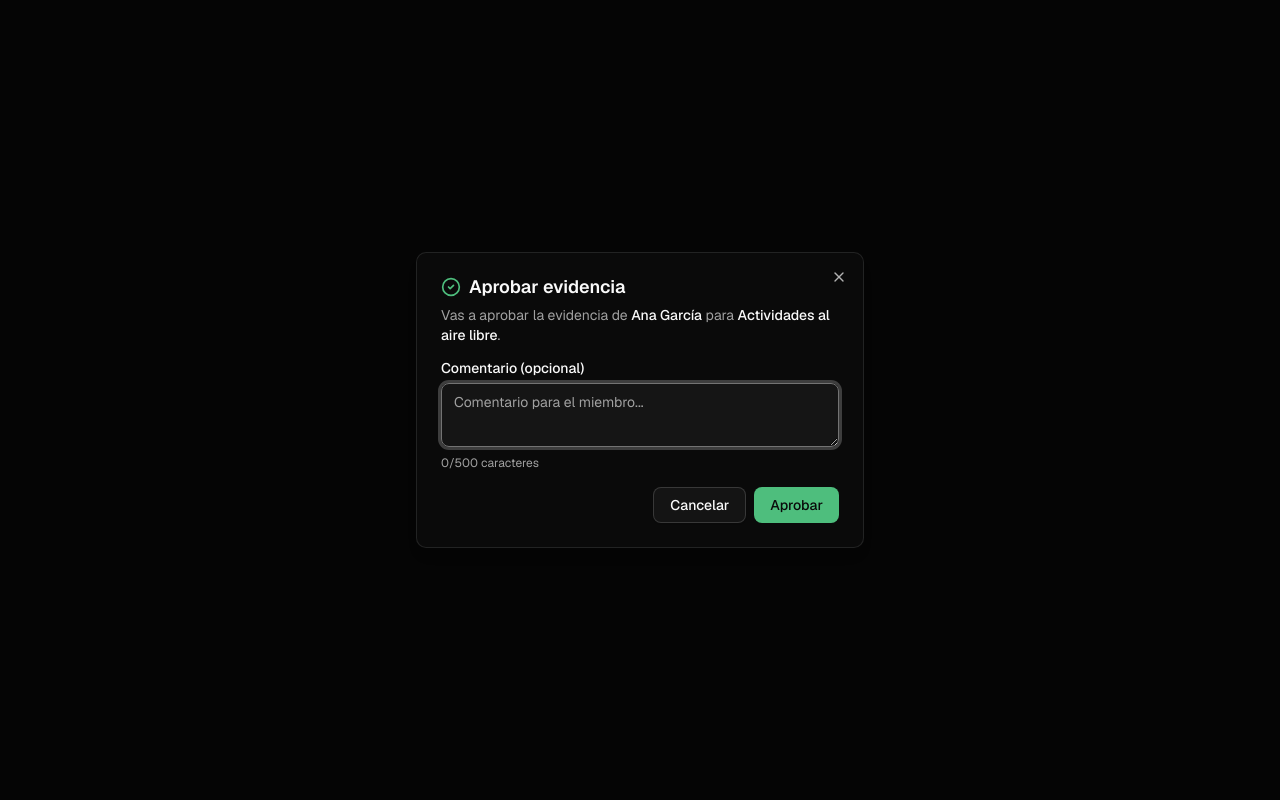
Test: EvidenceApproveDialog › updates char counter as user types in comments textarea
expect the text "0/500 caracteres" is shown: met, box [441,455,539,471]
Type "hola" into the text box with id "approve-comments".
click(640, 415); type("hola")  # box [441,383,839,447]
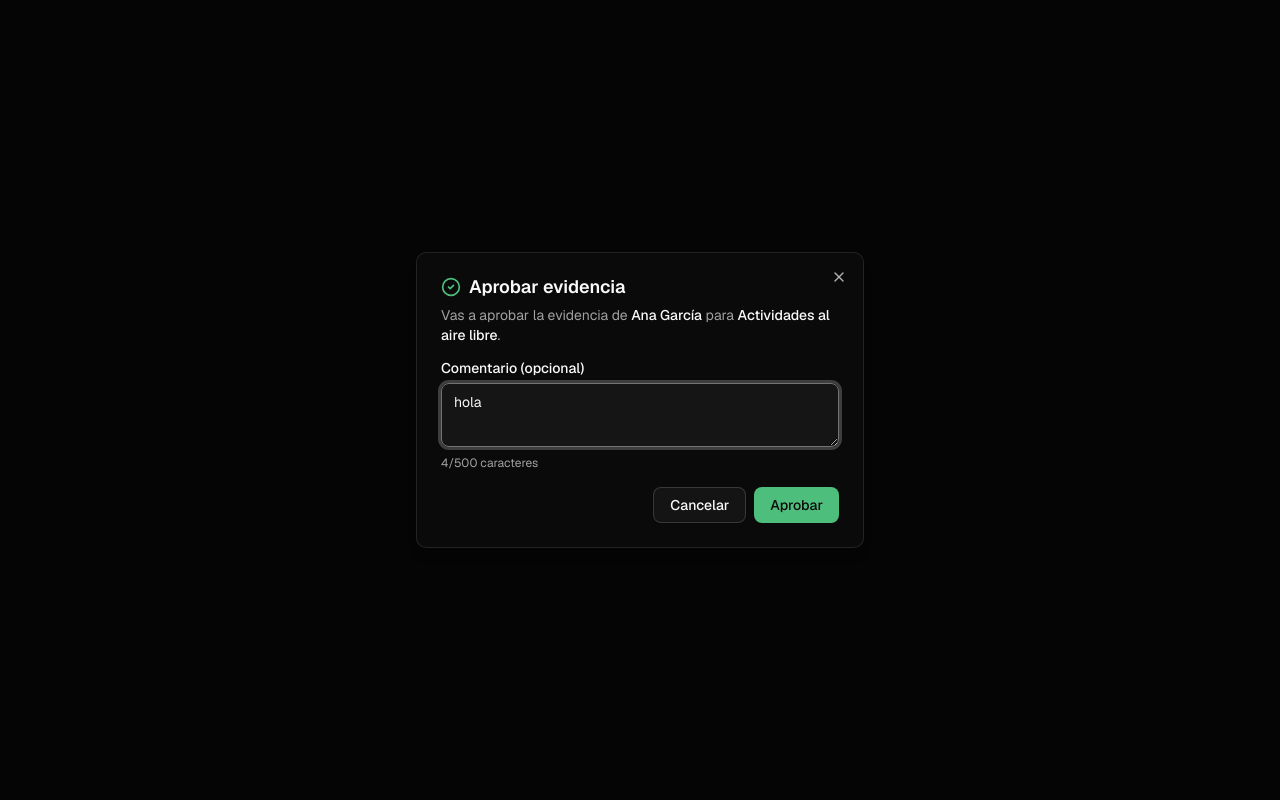
expect the text "4/500 caracteres" is shown: met, box [441,455,538,471]
